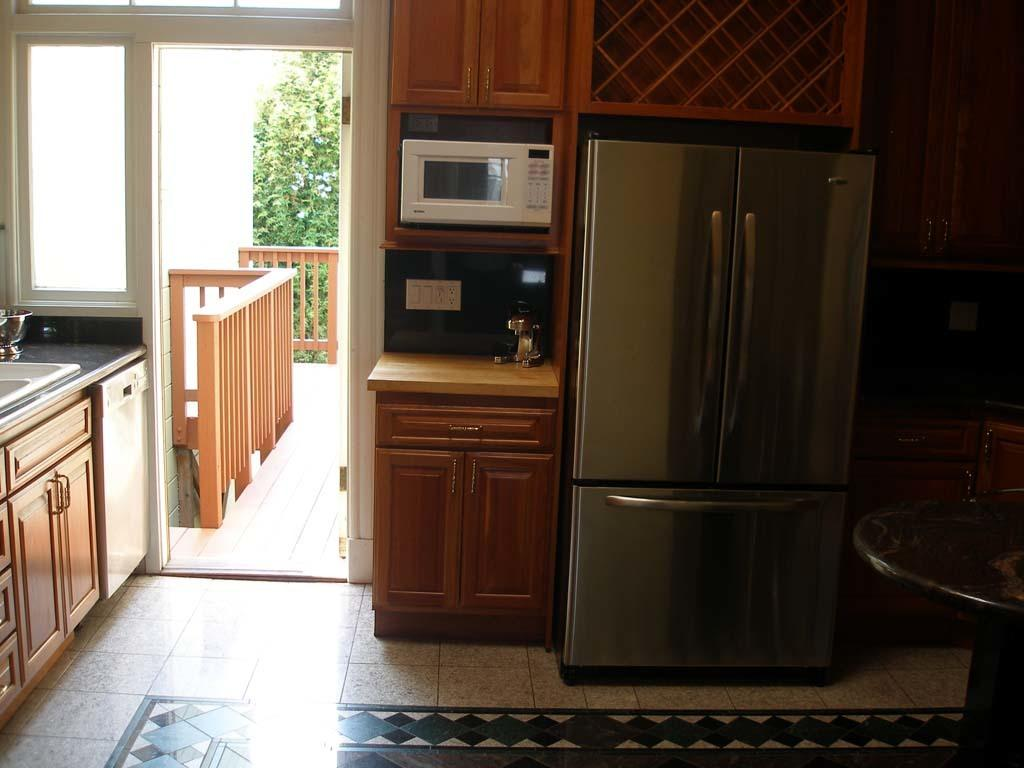cabinet_door: (462, 458, 550, 614), (390, 450, 460, 603), (480, 2, 562, 111), (396, 5, 477, 109), (19, 490, 67, 641), (386, 404, 536, 446), (65, 468, 97, 612)
handle: (610, 485, 808, 532), (738, 224, 766, 444), (702, 205, 726, 435), (49, 472, 65, 524), (464, 54, 478, 102), (480, 60, 494, 104), (60, 468, 76, 506), (450, 424, 480, 444), (468, 458, 481, 503), (448, 458, 458, 502)
